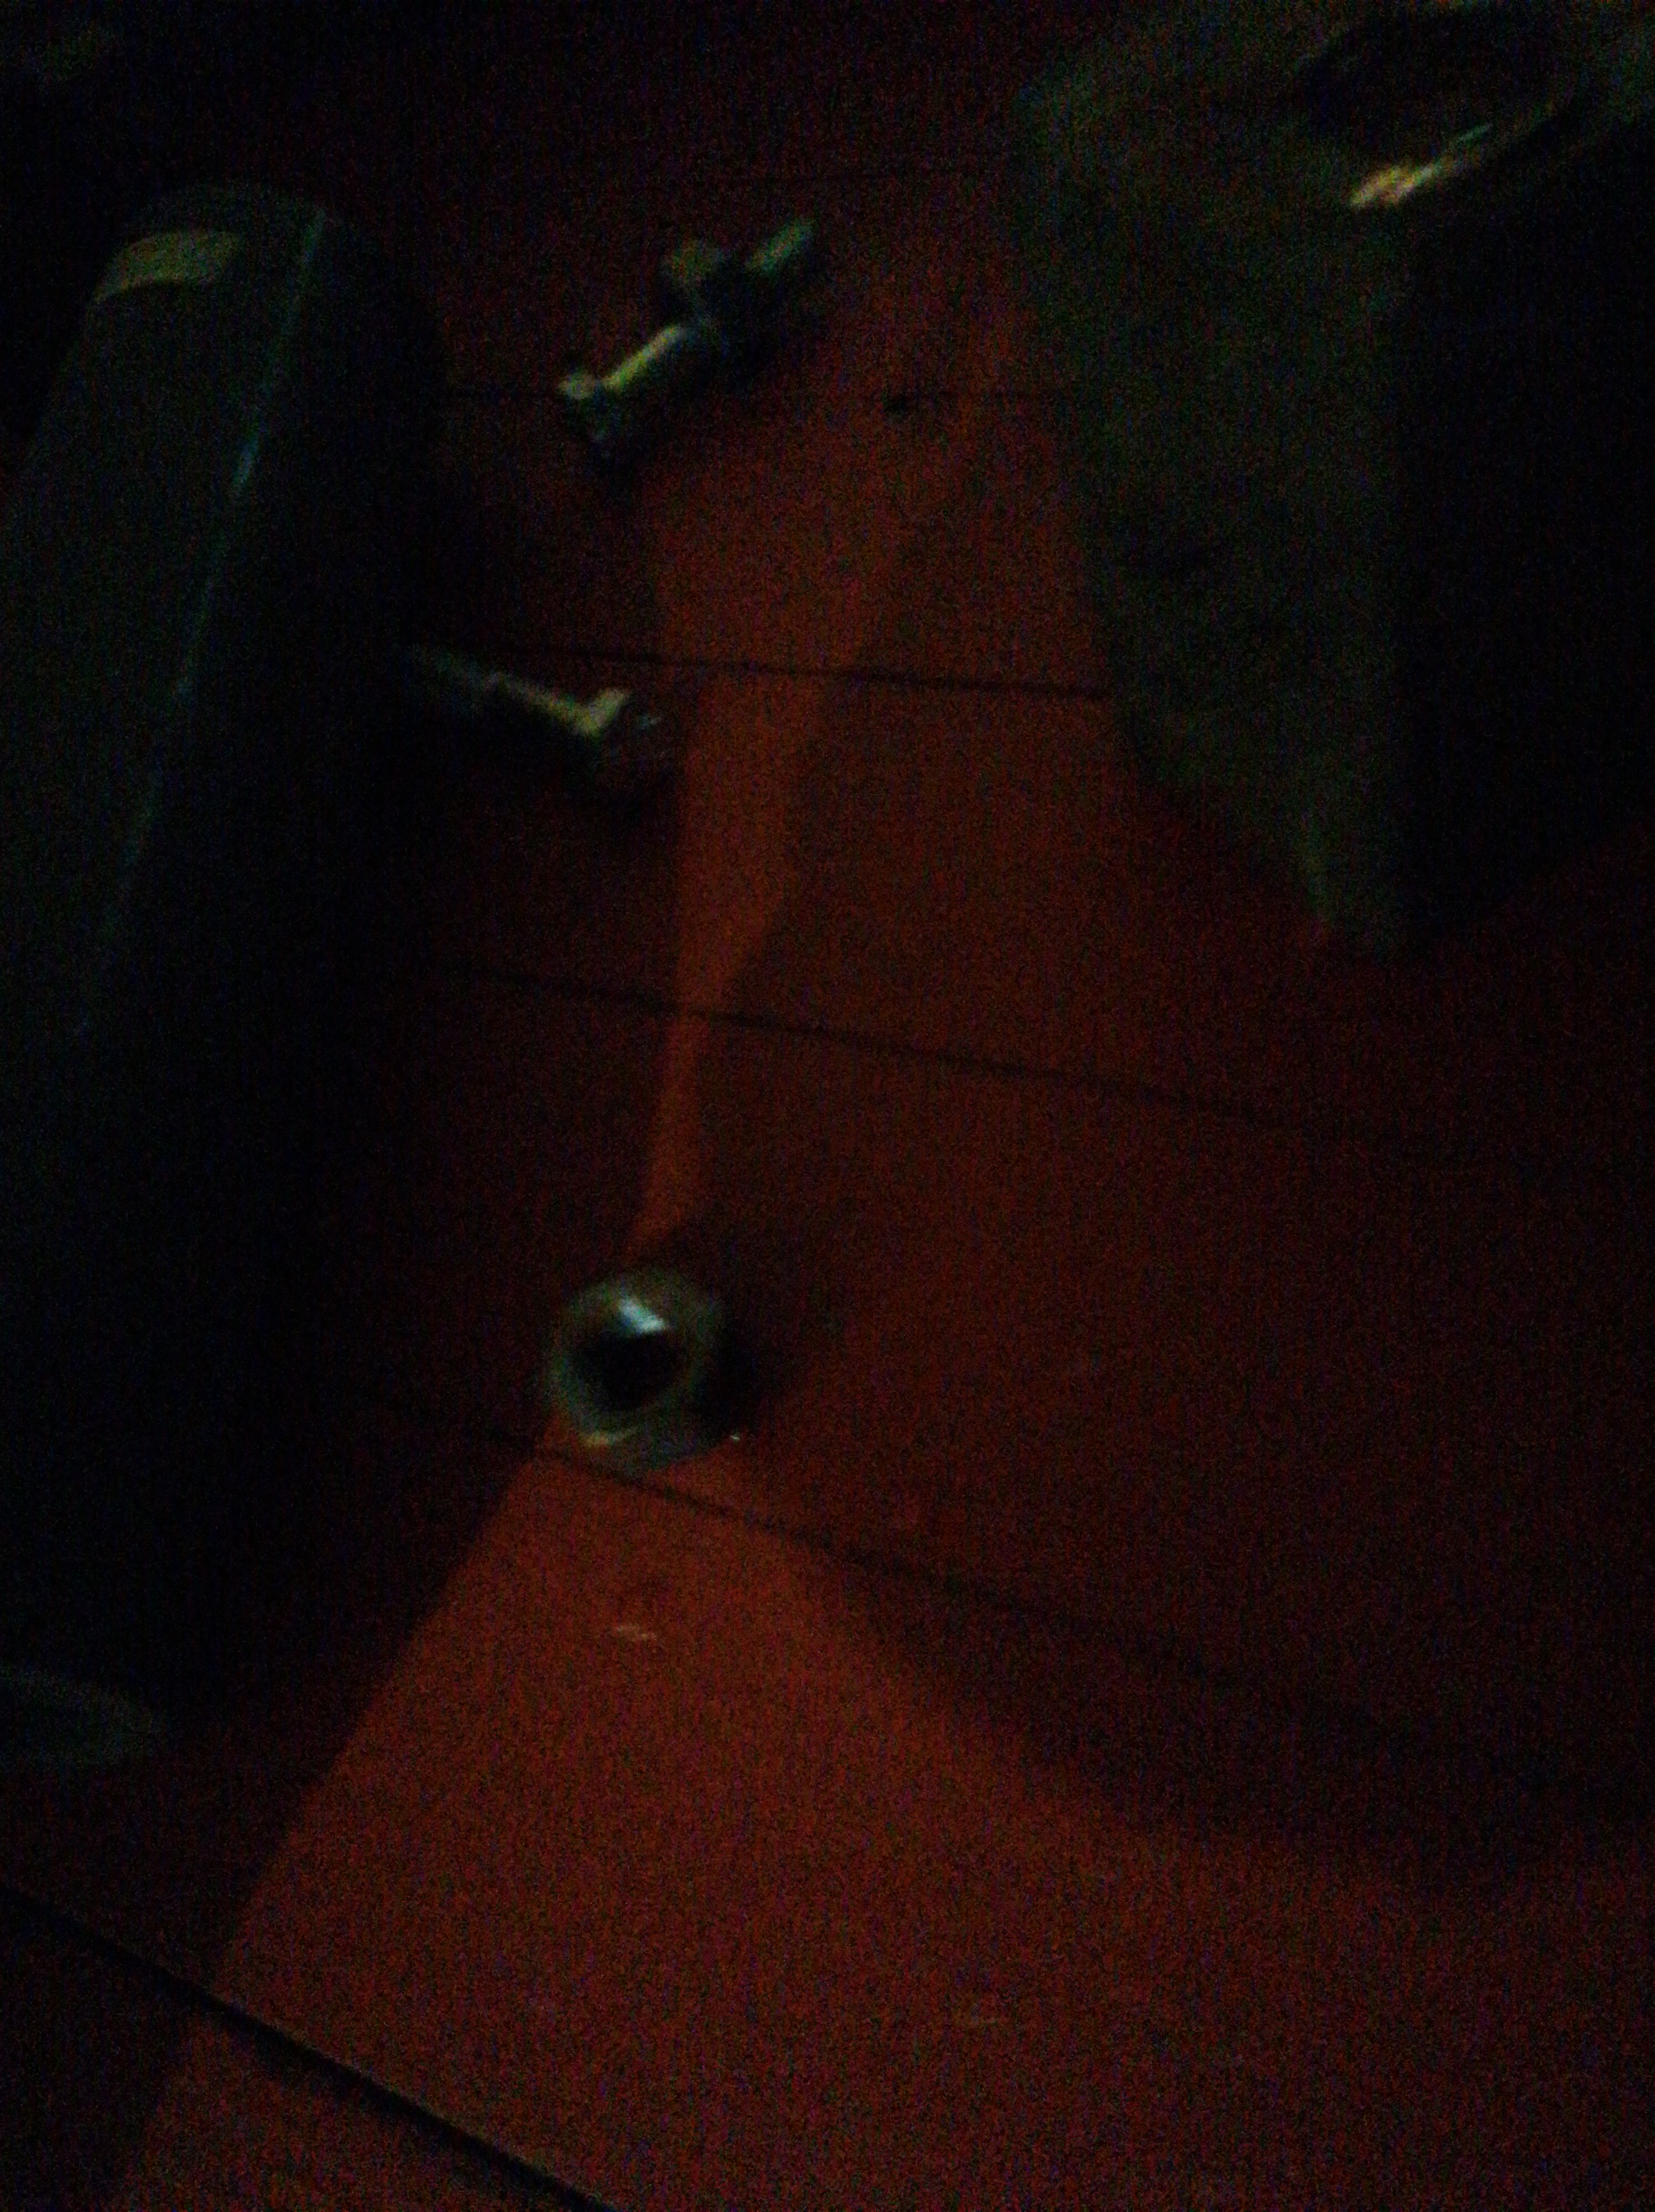bolt: (542, 212, 824, 452), (374, 617, 685, 798)
led_block: (1000, 5, 1655, 970)
nut: (544, 1263, 756, 1470), (655, 233, 772, 384)
pipe: (0, 182, 433, 1771)
